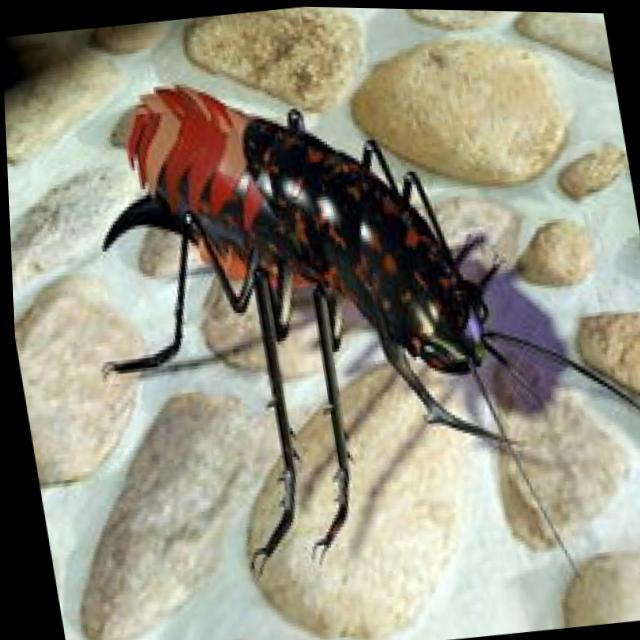Cockroach: (45, 4, 640, 615)
